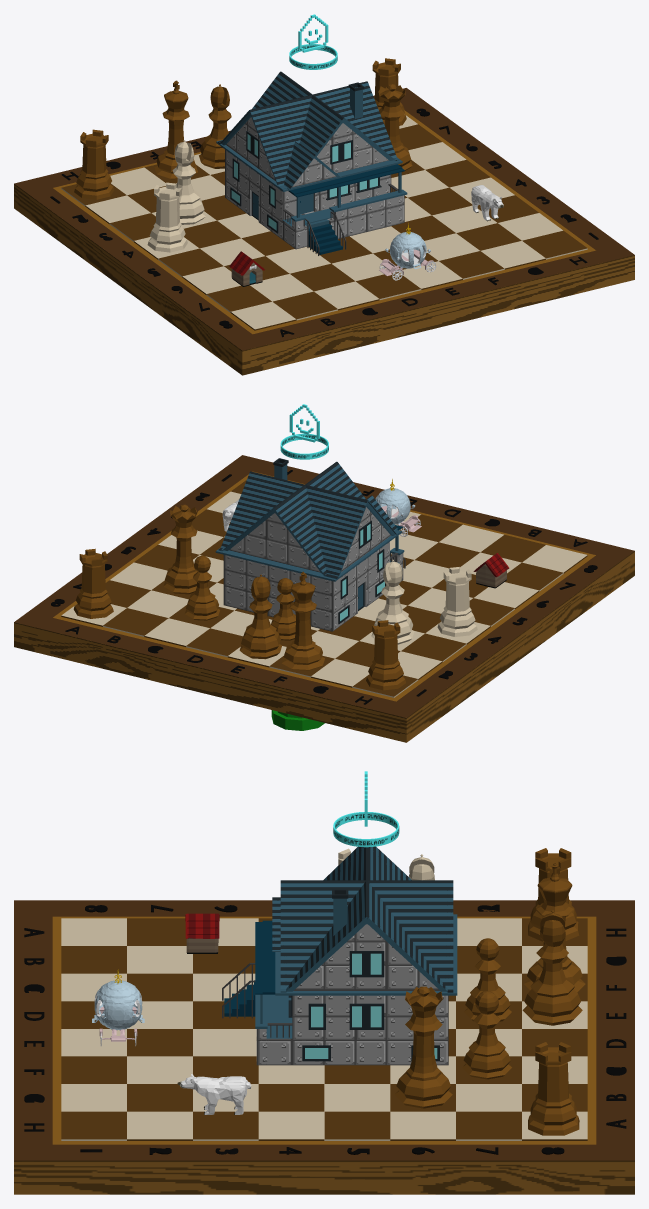
3 views of the same model, one above another, from view 1: azimuth 30°, elevation 25°; view 2: azimuth 150°, elevation 25°; view 3: azimuth 270°, elevation 25° (orthographic). The views are drawn at different scales.
Parts seen in each view (by area): view 1: Cube.002, Cube.078, VEHICLES_FANTASY_CARRIAGE, TYPE_PREMIUM, OBJRANDOM_DOGHOUSE, ANIMAL_OSO_POLAR; view 2: Cube.002, Cube.078, VEHICLES_FANTASY_CARRIAGE, TYPE_PREMIUM, OBJRANDOM_DOGHOUSE, UNDERGROUND_PIPES; view 3: Cube.002, Cube.078, VEHICLES_FANTASY_CARRIAGE, ANIMAL_OSO_POLAR, OBJRANDOM_DOGHOUSE, TYPE_PREMIUM.
Part boxes in pixels (box(x1,y1,x2,y2)): Cube.002: box(14, 58, 634, 375); Cube.078: box(216, 71, 407, 255); VEHICLES_FANTASY_CARRIAGE: box(379, 223, 436, 280); TYPE_PREMIUM: box(289, 14, 337, 69); OBJRANDOM_DOGHOUSE: box(229, 251, 264, 286); ANIMAL_OSO_POLAR: box(471, 185, 503, 221); Cube.002: box(14, 455, 634, 742); Cube.078: box(215, 458, 405, 631); VEHICLES_FANTASY_CARRIAGE: box(375, 479, 421, 536); TYPE_PREMIUM: box(280, 404, 328, 459); OBJRANDOM_DOGHOUSE: box(473, 553, 509, 588); UNDERGROUND_PIPES: box(271, 710, 324, 730); Cube.002: box(14, 848, 634, 1194); Cube.078: box(222, 846, 457, 1065); VEHICLES_FANTASY_CARRIAGE: box(92, 969, 144, 1046); ANIMAL_OSO_POLAR: box(177, 1074, 251, 1114); OBJRANDOM_DOGHOUSE: box(185, 913, 219, 953); TYPE_PREMIUM: box(333, 771, 399, 847).
Bounding box in the file's own units: 3981 × 2761 × 4012.
35 materials, 5 textured.
